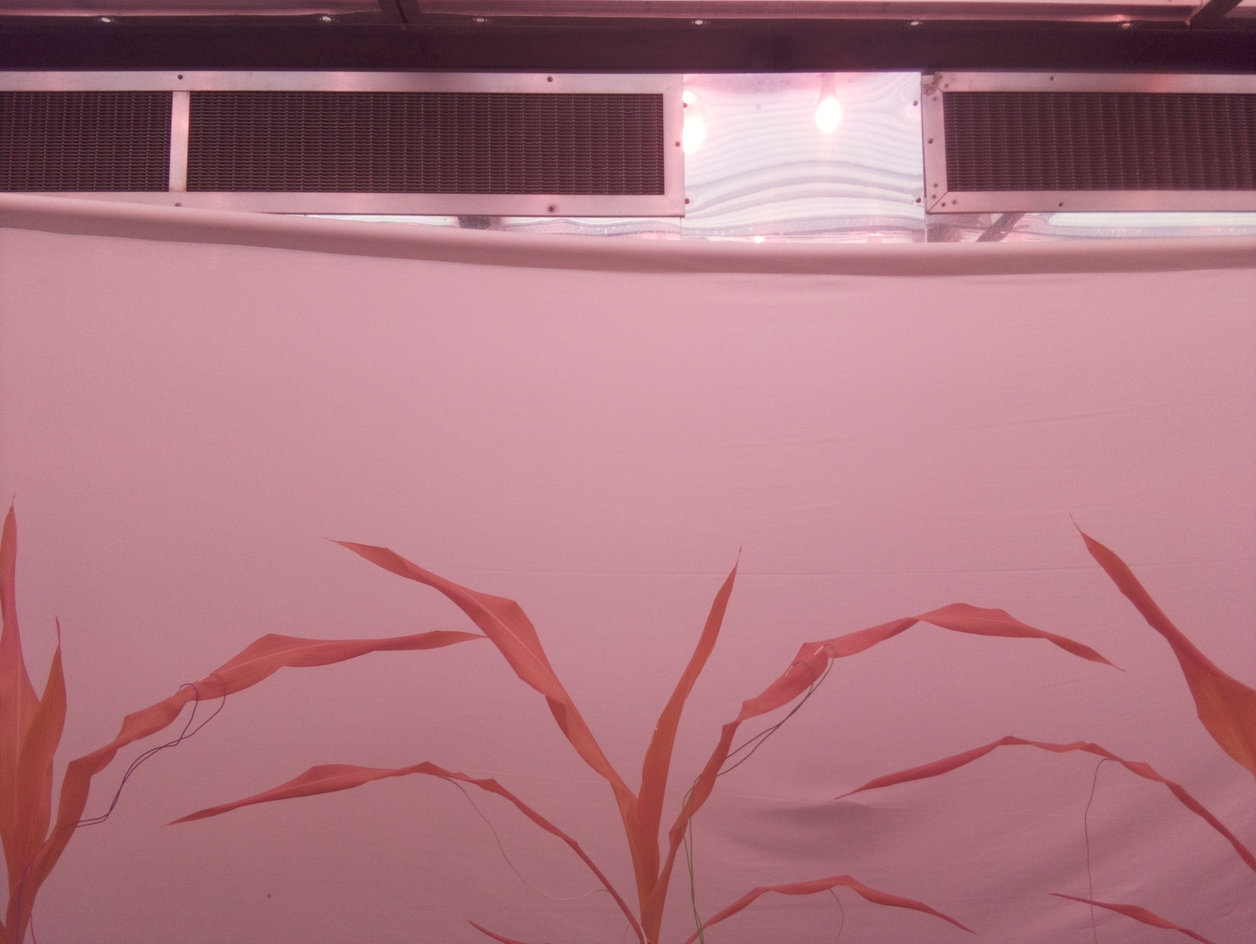maize: (162, 533, 1131, 944), (0, 490, 488, 944), (835, 510, 1256, 944)
